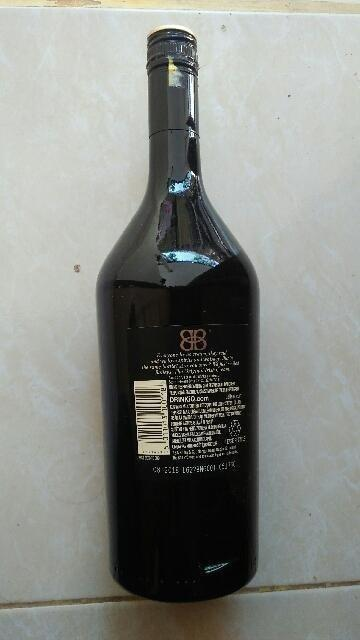bottle-glass: (94, 25, 262, 604)
